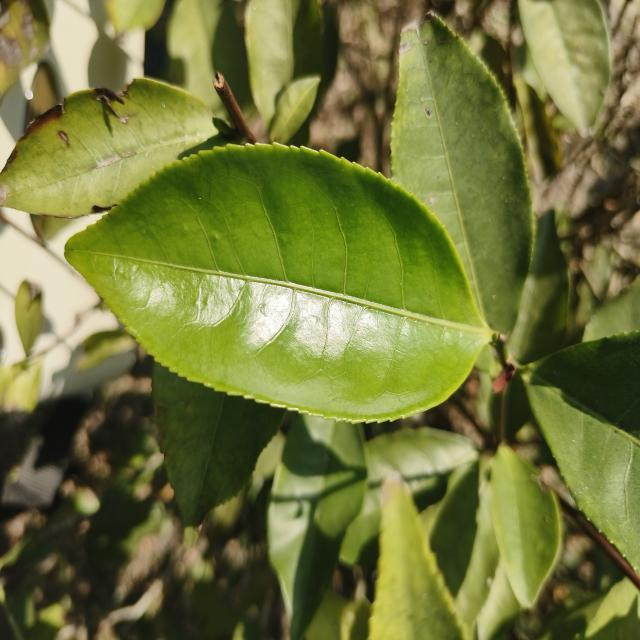Leaf: (65, 145, 490, 421), (391, 16, 534, 333), (0, 79, 216, 217), (525, 332, 640, 571), (268, 414, 367, 640), (152, 362, 286, 527), (339, 427, 478, 566), (368, 472, 464, 640), (420, 461, 498, 637), (518, 0, 610, 132), (491, 445, 562, 607), (167, 0, 256, 118), (245, 0, 321, 128), (508, 210, 569, 364), (269, 75, 320, 144), (15, 280, 44, 356)
